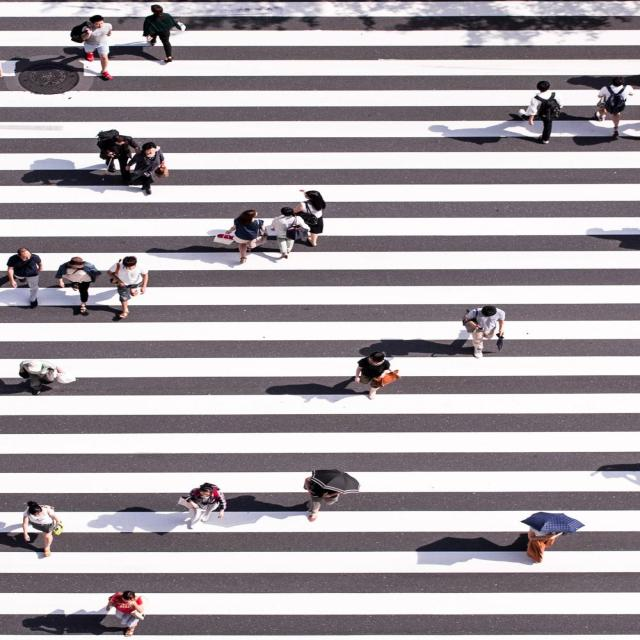Pedestrians: (0, 246, 60, 314), (59, 253, 109, 317), (457, 302, 511, 359), (110, 255, 158, 319), (72, 19, 122, 80), (12, 499, 62, 558), (220, 205, 265, 268), (520, 80, 561, 146), (144, 5, 189, 64), (351, 349, 399, 402), (592, 75, 628, 143), (174, 483, 229, 527), (103, 588, 153, 636), (19, 358, 78, 396), (136, 141, 175, 195), (98, 132, 135, 183), (301, 480, 339, 525), (306, 186, 332, 251), (527, 522, 559, 568), (272, 204, 298, 258)
